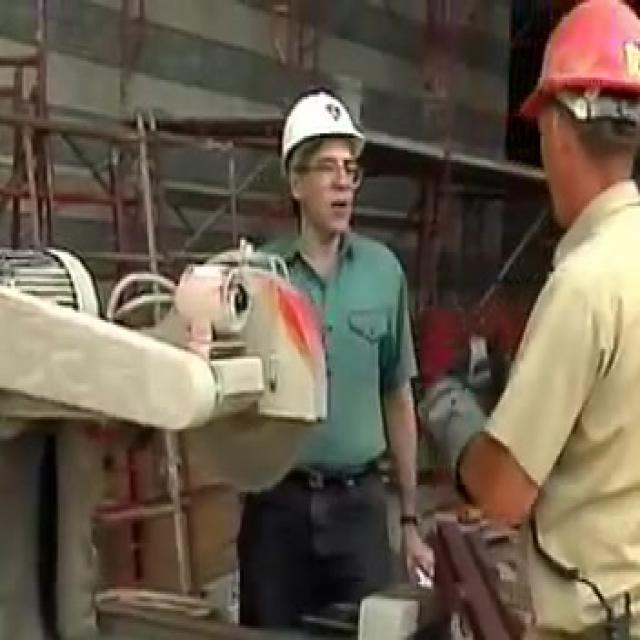Reflective-Jacket: (476, 177, 638, 638), (218, 226, 438, 512)
Safety-Helmet: (511, 0, 640, 133), (266, 78, 378, 177)
